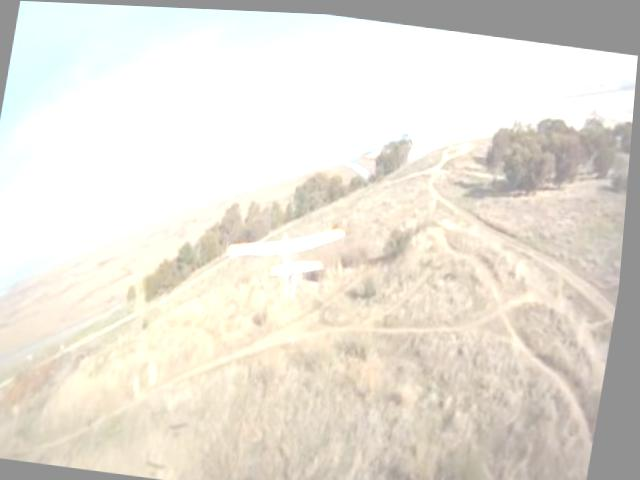uav: (222, 208, 352, 302)
